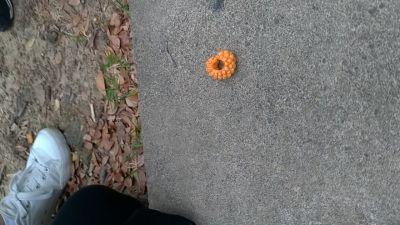eggs: (205, 49, 239, 83)
